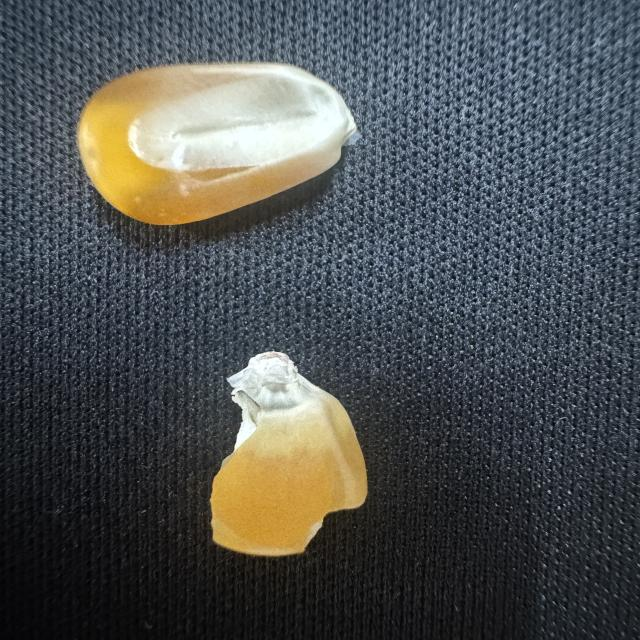Bad-Seed: (198, 344, 372, 560)
Good-Seed: (72, 54, 361, 232)
